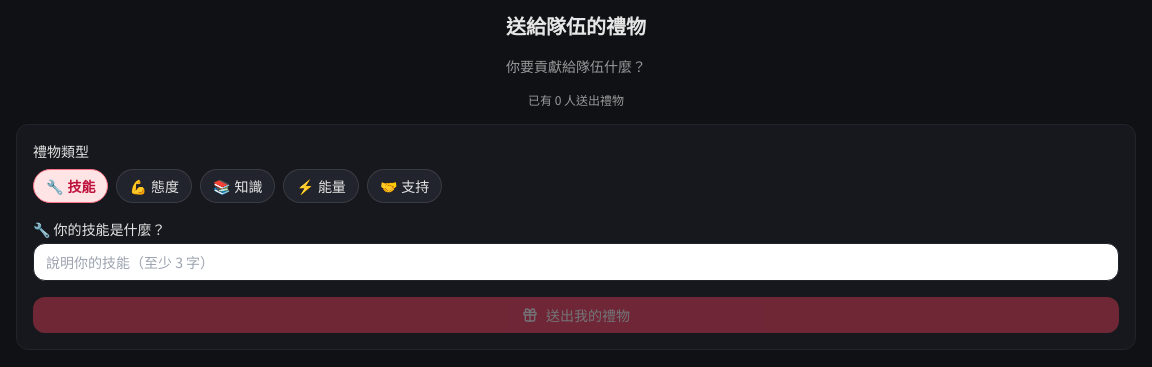
Test: GiftToTeam › 3 字以上啟用提交按鈕
The image size is (1152, 367).
Step 1. Type "整合能力" into the field with test id "gtt-content-input" → (576, 262), box [33,243,1119,281]
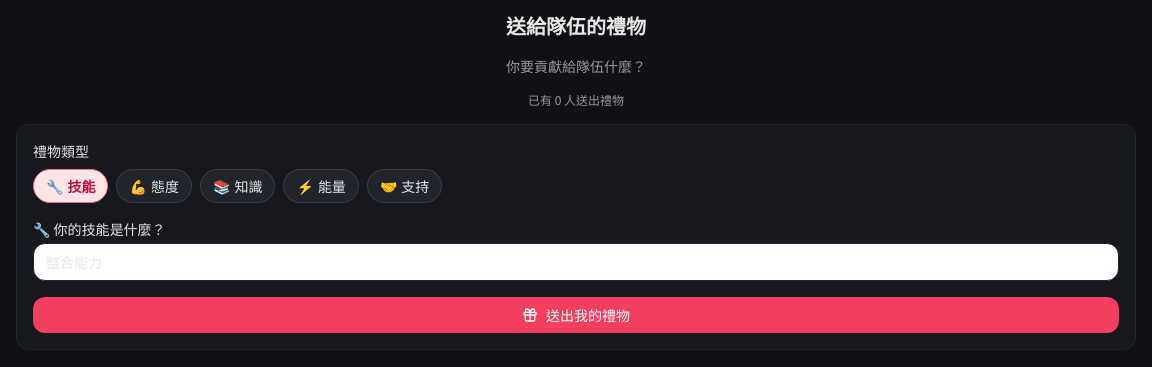
Now the button with test id "gtt-submit-btn" is enabled, box [33,297,1119,333]
